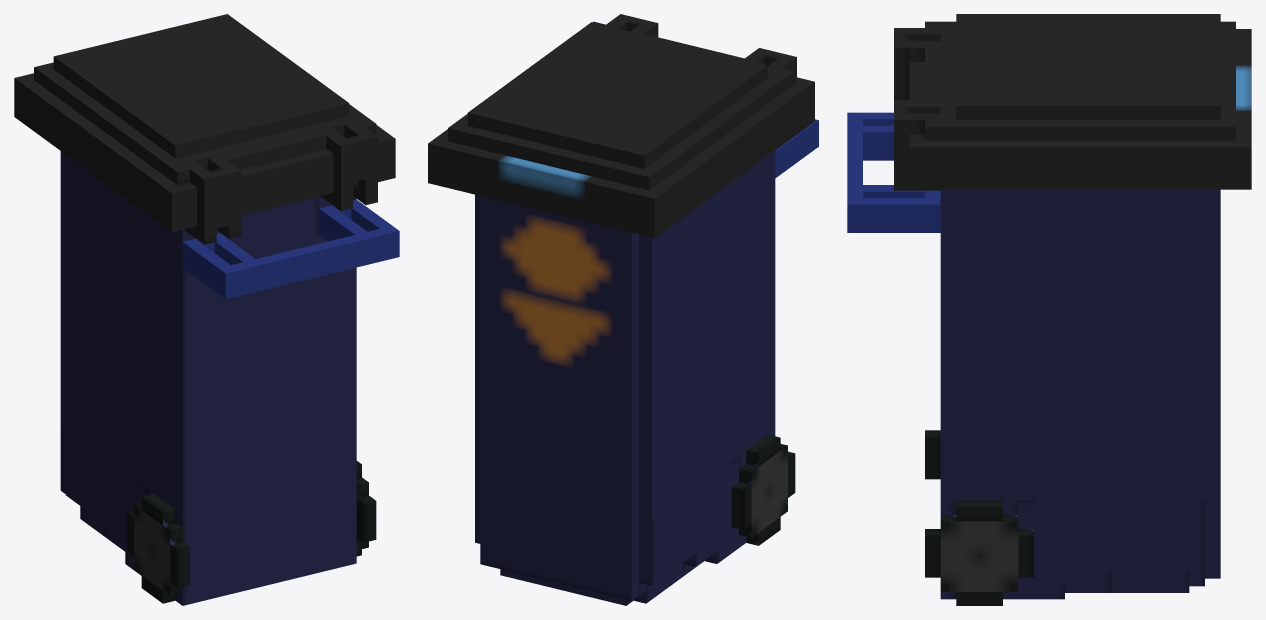
Rendered from hasiok.dae.
The picture shows the model from 3 angles, left to right: view 1: azimuth 30°, elevation 25°; view 2: azimuth 150°, elevation 25°; view 3: azimuth 270°, elevation 25°; orthographic projection. The views are drawn at different scales.
Parts seen in each view (by area): view 1: Content; view 2: Content; view 3: Content.
Part boxes in pixels (left/top/right/bottom): Content: left=14, top=14, right=399, bottom=605; Content: left=428, top=14, right=818, bottom=605; Content: left=847, top=14, right=1251, bottom=605.
Size of the model in its own units: 18 by 35 by 26.
1 material, 1 textured.
